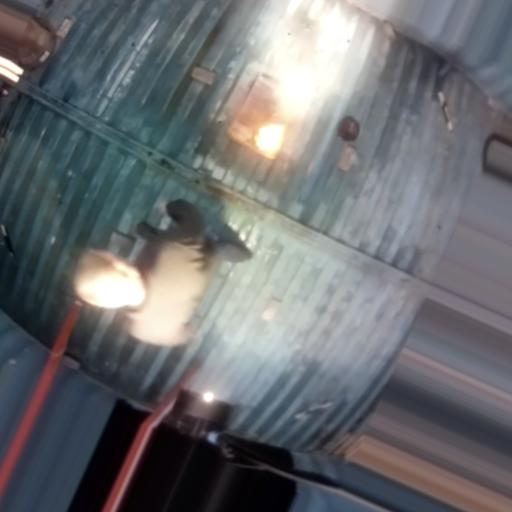Fire: (254, 120, 287, 155)
